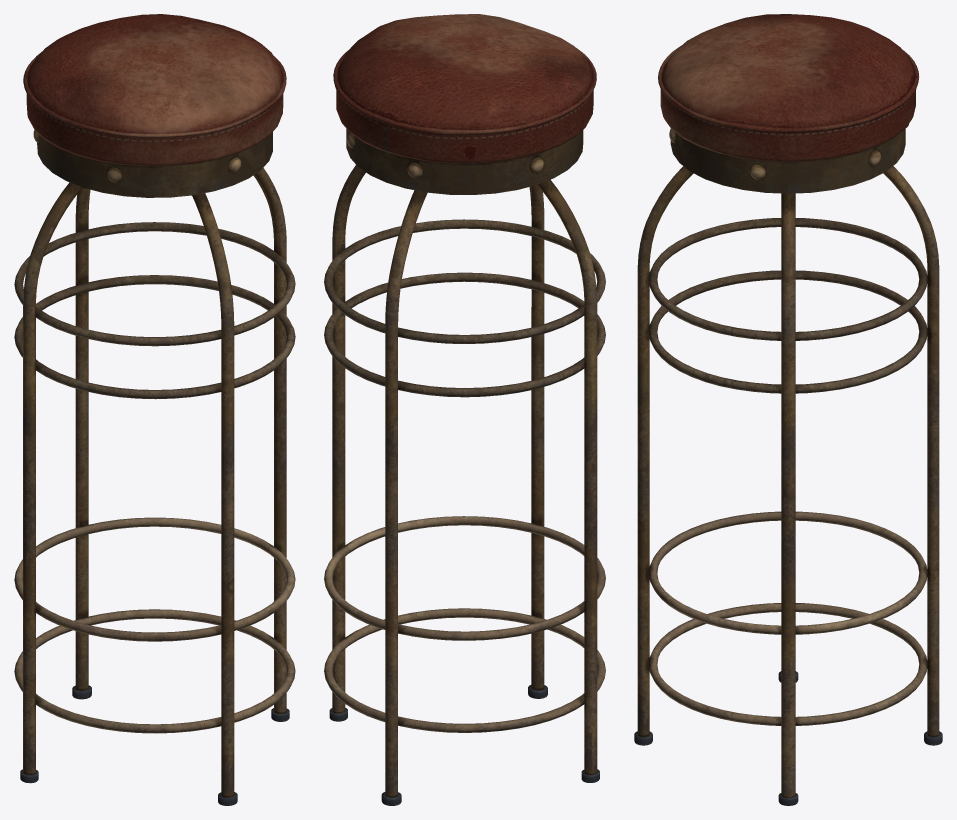
3 views of the same model, side by side, from view 1: azimuth 30°, elevation 25°; view 2: azimuth 150°, elevation 25°; view 3: azimuth 270°, elevation 25° (orthographic).
Parts seen in each view (by area): view 1: metal_stool_01; view 2: metal_stool_01; view 3: metal_stool_01.
Boxes of the visible parts, <box> form: metal_stool_01: <box>14,14,295,805</box>; metal_stool_01: <box>324,14,605,805</box>; metal_stool_01: <box>634,14,942,805</box>.
Size of the model in its own units: 0.352 by 0.8828 by 0.3546.
Materials: 1 (1 with a texture image).
